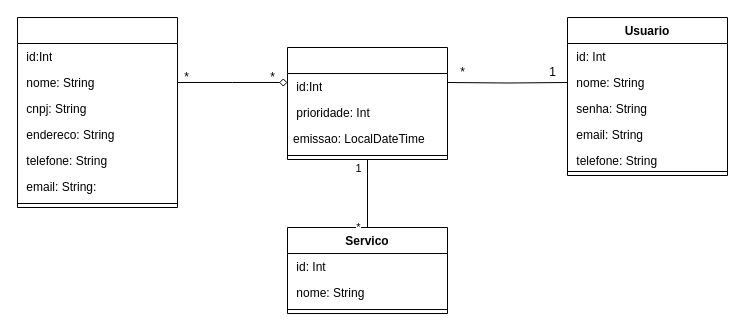
This 745x331 diagram has some shape labels left out. Here are the shapes that lost their labels. From the top down, the box of each, then its label:
(16, 16, 178, 208): Empresa
(286, 46, 448, 160): Atendimento
